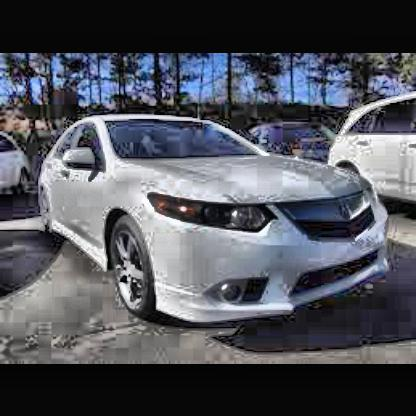Acura TSX Sedan 2012: (39, 114, 395, 329)
